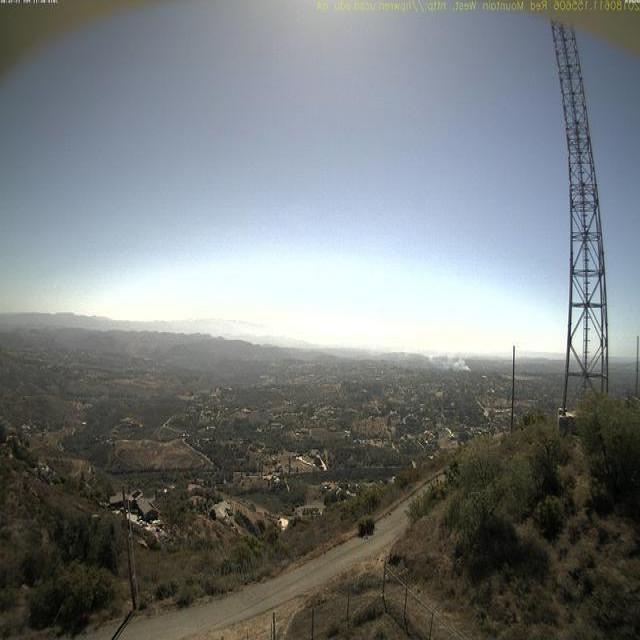smoke: (418, 336, 473, 373)
